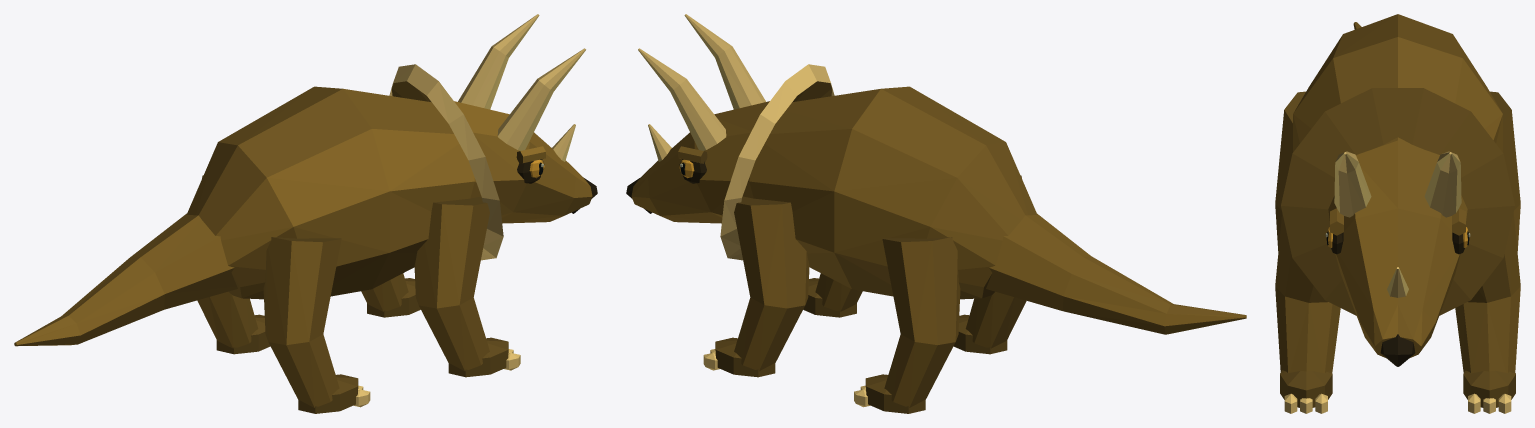
File: SM_triceratops.fbx
3 views of the same model, side by side, from view 1: azimuth 30°, elevation 25°; view 2: azimuth 150°, elevation 25°; view 3: azimuth 270°, elevation 25° (orthographic). The views are drawn at different scales.
Parts seen in each view (by area): view 1: SM_triceratops • FBX; view 2: SM_triceratops • FBX; view 3: SM_triceratops • FBX.
Boxes of the visible parts, <box> form: SM_triceratops • FBX: <box>14,14,597,413</box>; SM_triceratops • FBX: <box>626,14,1246,413</box>; SM_triceratops • FBX: <box>1275,14,1520,413</box>.
Size of the model in its own units: 918 by 289 by 414.
